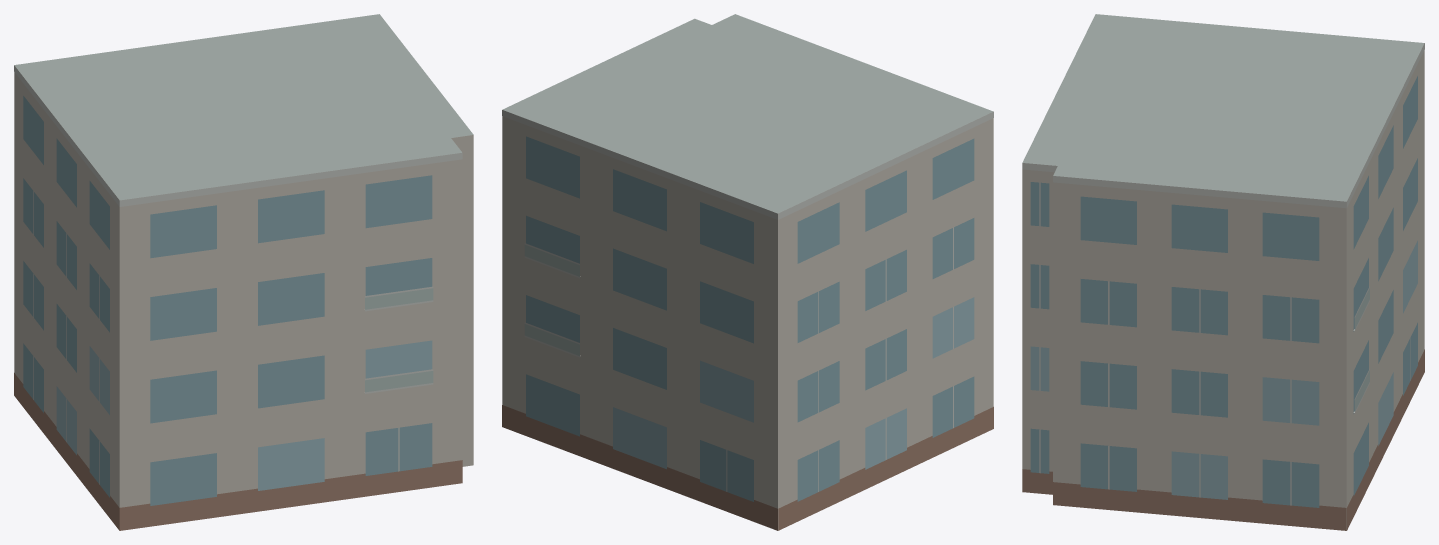
Rendered from residential-0147341f-14de-4f28-bf65-d1069c412c52.glb.
3 renders of one model, left to right at view 1: azimuth 30°, elevation 25°; view 2: azimuth 150°, elevation 25°; view 3: azimuth 270°, elevation 25°, orthographic. The views are drawn at different scales.
Visible parts, largest first — view 1: residential-0147341f-14de-4f28-bf65-d1069c412c52.tmp; view 2: residential-0147341f-14de-4f28-bf65-d1069c412c52.tmp; view 3: residential-0147341f-14de-4f28-bf65-d1069c412c52.tmp.
Part boxes in pixels (left/top/right/bottom): residential-0147341f-14de-4f28-bf65-d1069c412c52.tmp: left=14, top=14, right=473, bottom=530; residential-0147341f-14de-4f28-bf65-d1069c412c52.tmp: left=502, top=14, right=993, bottom=530; residential-0147341f-14de-4f28-bf65-d1069c412c52.tmp: left=1022, top=14, right=1424, bottom=530.
Bounding box in the file's own units: 14.93 × 12.2 × 13.53.
